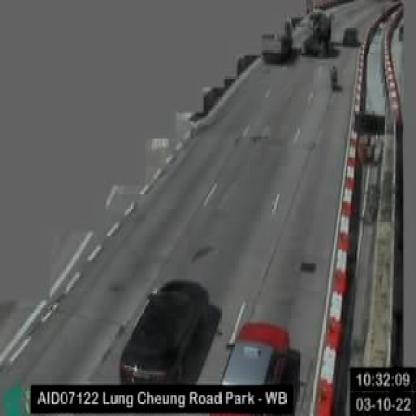Car: (120, 279, 208, 387)
Truck: (300, 5, 333, 56)
